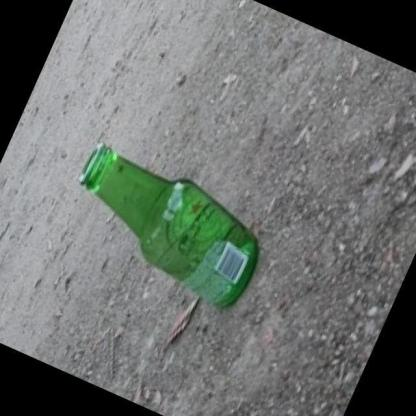Can: (80, 142, 258, 307)
